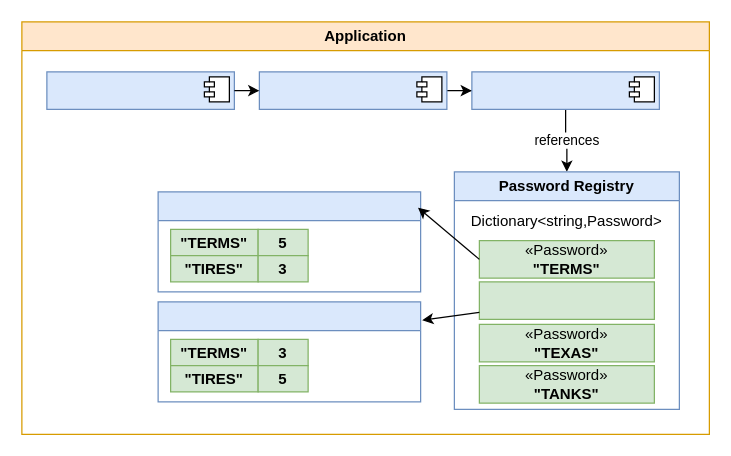
This 731x456 diagram has some shape labels left out. The shapes that lost their labels are listed below. From the top down, each one's box as (x1, y1, x2, y2) in pixels, then its label:
(46, 71, 234, 109): UI / ViewModel
(258, 71, 447, 109): Password Solver
(471, 71, 659, 109): Game Session
(157, 191, 421, 292): MatchCount Cache ["TERMS"]
(478, 281, 654, 319): «Password» "TIRES"
(157, 301, 421, 402): MatchCount Cache ["TIRES"]
